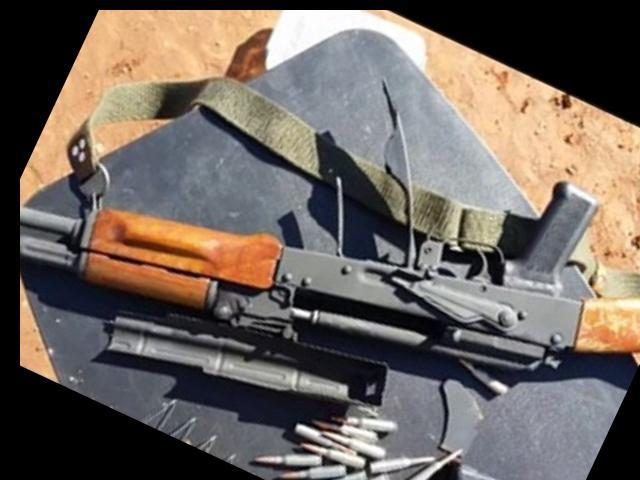larga: (21, 179, 640, 411)
